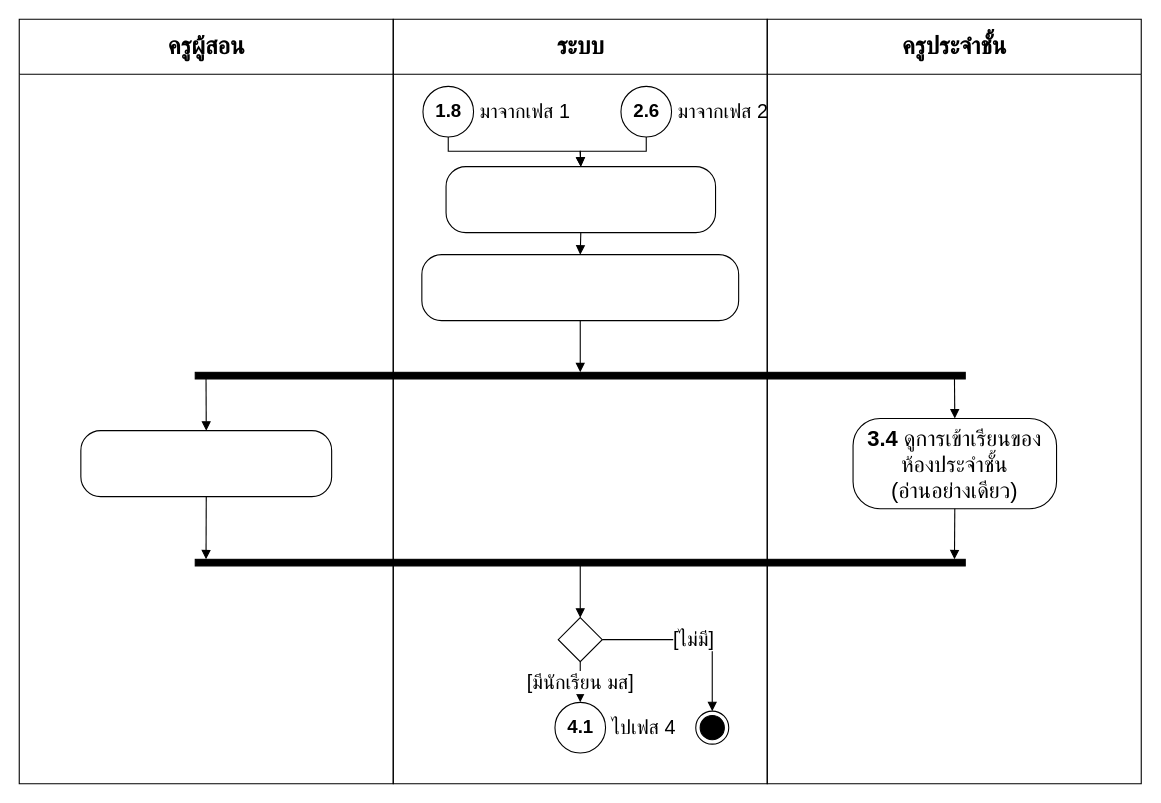
Image size: 1161x803. Some labels were removed from this diagram. Here are the shapes that lost their labels. From the top down, the centre of each, then its label:
the point at 580,199: 3.1 คำนวณเวลาเรียน (%) = (มา + สาย) ÷ คาบที่เช็คแล้ว
the point at 580,287: 3.2 จัดนักเรียนเป็น มส (ต่ำกว่า 80%) หรือกลุ่มเสี่ยง
the point at 206,463: 3.3 เปิดห้องที่ฉันสอน ดูเวลาเรียนและคาบที่ขาดได้อีก
